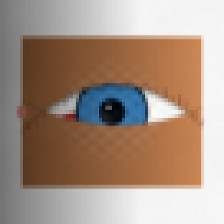hemorrhage_spot: (38, 94, 123, 162)
